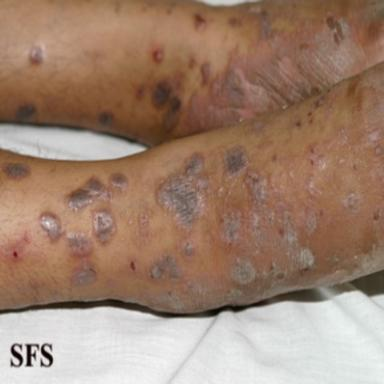lichen: (185, 11, 361, 132), (223, 169, 314, 306), (316, 208, 384, 286), (157, 154, 207, 229), (152, 73, 183, 132), (66, 178, 112, 210), (133, 206, 157, 245), (221, 206, 244, 246), (149, 253, 181, 281), (223, 145, 248, 178), (4, 233, 31, 262), (231, 257, 256, 285), (94, 211, 115, 242), (73, 258, 96, 285), (41, 214, 63, 239), (67, 234, 92, 256), (306, 145, 326, 170), (3, 162, 29, 179), (325, 129, 347, 149), (343, 192, 361, 214), (16, 105, 36, 122), (303, 177, 320, 197), (110, 174, 127, 191), (29, 45, 44, 64), (306, 210, 317, 234), (98, 112, 114, 128), (193, 14, 207, 32), (250, 121, 265, 137), (183, 242, 195, 258), (136, 84, 145, 100), (153, 49, 164, 62), (229, 17, 243, 27), (128, 259, 137, 272), (294, 116, 301, 130), (189, 56, 196, 69), (375, 146, 383, 156), (308, 117, 313, 124), (307, 112, 313, 117)
